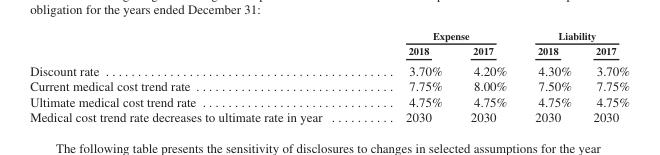table: (29, 28, 629, 124)
table column: (29, 28, 363, 124), (363, 28, 455, 124), (455, 28, 520, 124), (520, 28, 581, 124), (581, 28, 629, 124)
table column header: (29, 28, 629, 59)
table row: (29, 59, 629, 78), (29, 42, 629, 59), (29, 93, 629, 109), (29, 78, 629, 93), (29, 109, 629, 124), (29, 28, 629, 42)
table spanning cell: (363, 28, 520, 42), (520, 28, 629, 42)
